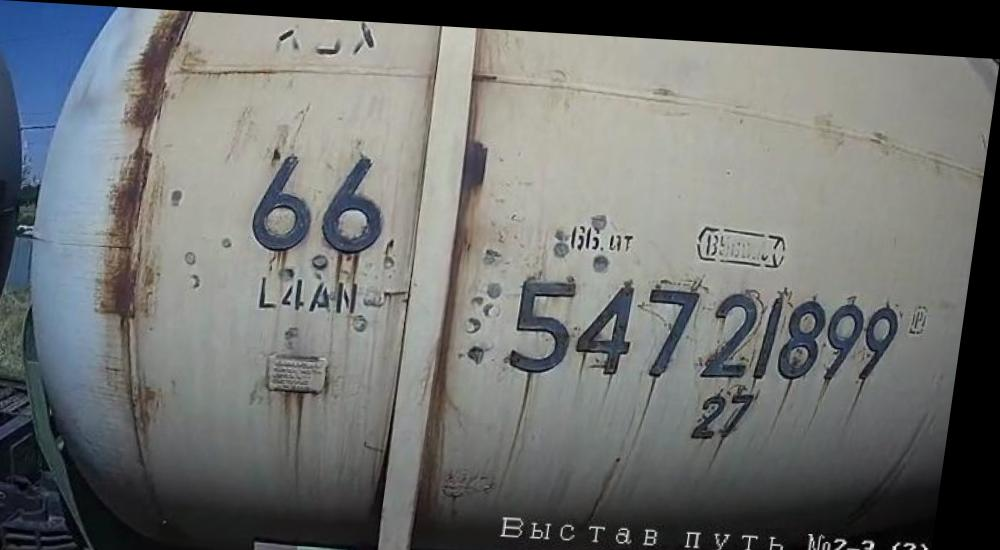Wagon-number: (512, 266, 915, 387)
